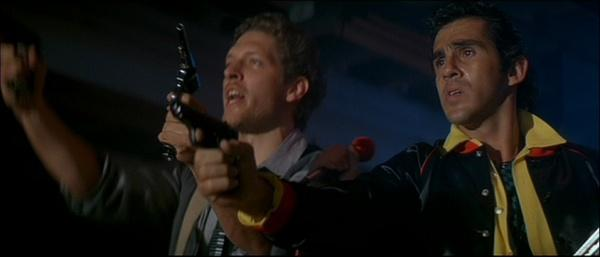Gun: (169, 103, 242, 196), (168, 22, 200, 103)
